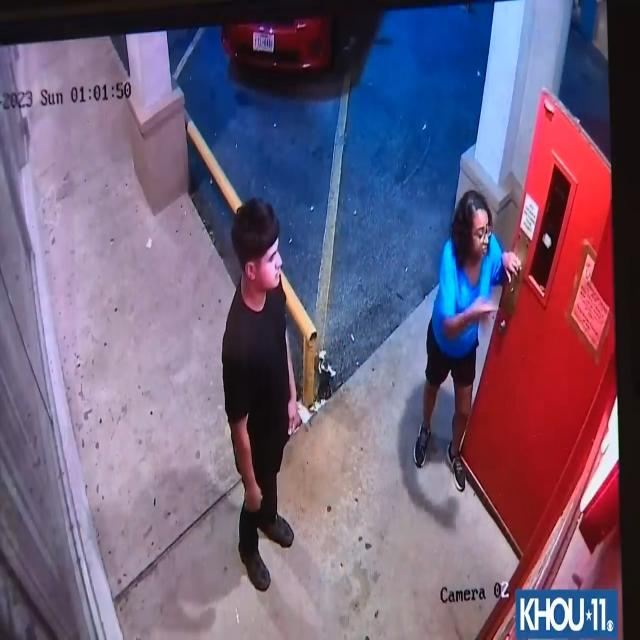Person: (220, 190, 308, 596), (417, 180, 517, 512)
